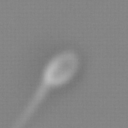normal: (5, 81, 49, 128)
